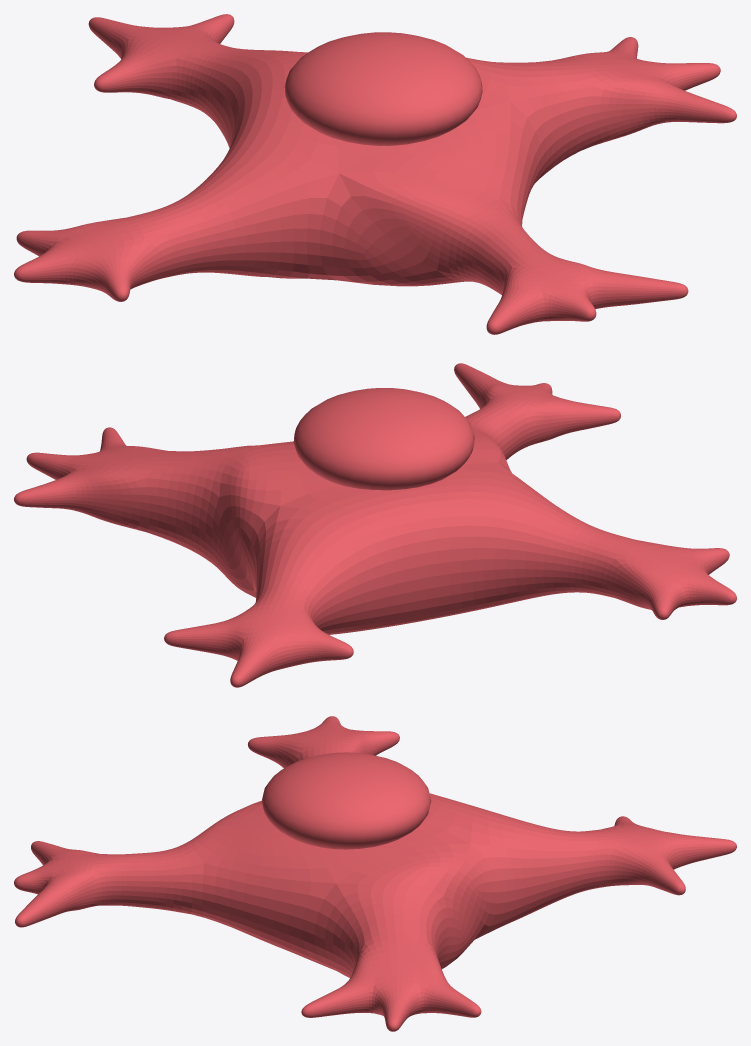
File: RAWNeuron.fbx
3 renders of one model, top to bottom at view 1: azimuth 30°, elevation 25°; view 2: azimuth 150°, elevation 25°; view 3: azimuth 270°, elevation 25°, orthographic. The views are drawn at different scales.
Visible parts, largest first — view 1: neuron jahat, neuron; view 2: neuron jahat, neuron; view 3: neuron jahat, neuron.
Part boxes in pixels (left/top/right/bottom): neuron jahat: left=14, top=14, right=736, bottom=334; neuron: left=284, top=32, right=482, bottom=145; neuron jahat: left=14, top=363, right=736, bottom=687; neuron: left=293, top=388, right=474, bottom=490; neuron jahat: left=14, top=716, right=736, bottom=1031; neuron: left=261, top=752, right=431, bottom=849.
Bounding box in the file's own units: 123 × 30.77 × 121.
